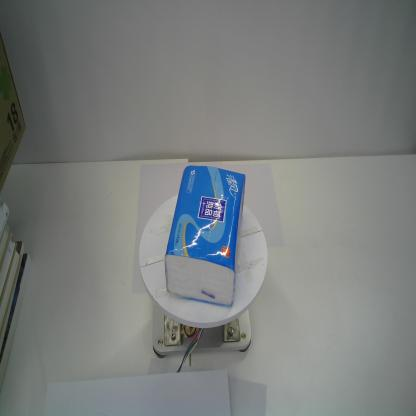Tissue: (163, 163, 247, 309)
